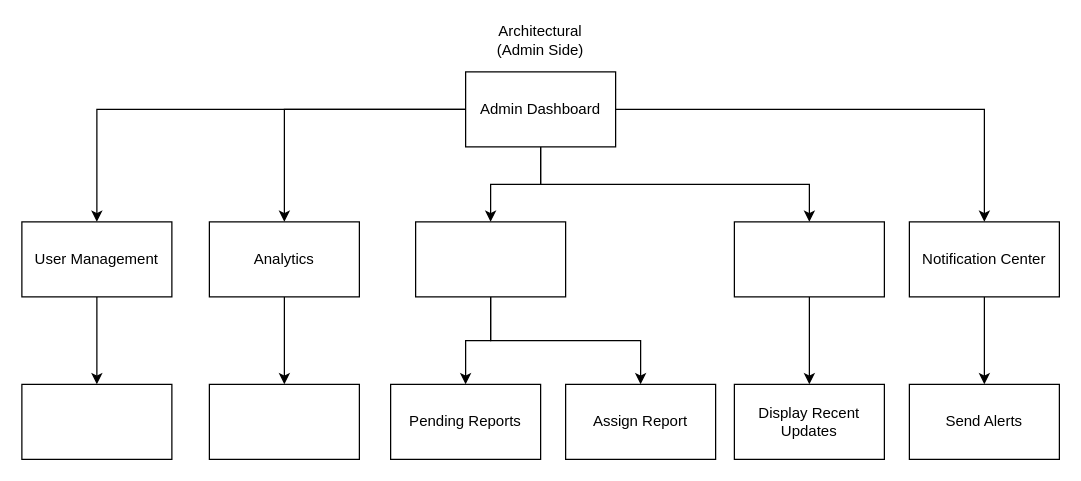
Image size: 1081x481. Some labels were removed from this diagram. Each missing label, with the centre of its shape:
"Activity Logs" belongs at point 808,259.
"Generate Analytics" belongs at point 283,421.
"Manage Accounts" belongs at point 96,421.
"Report Logs" belongs at point 490,259.
